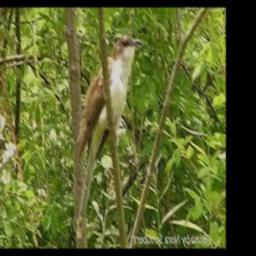Cuckoo: (76, 37, 143, 157)
